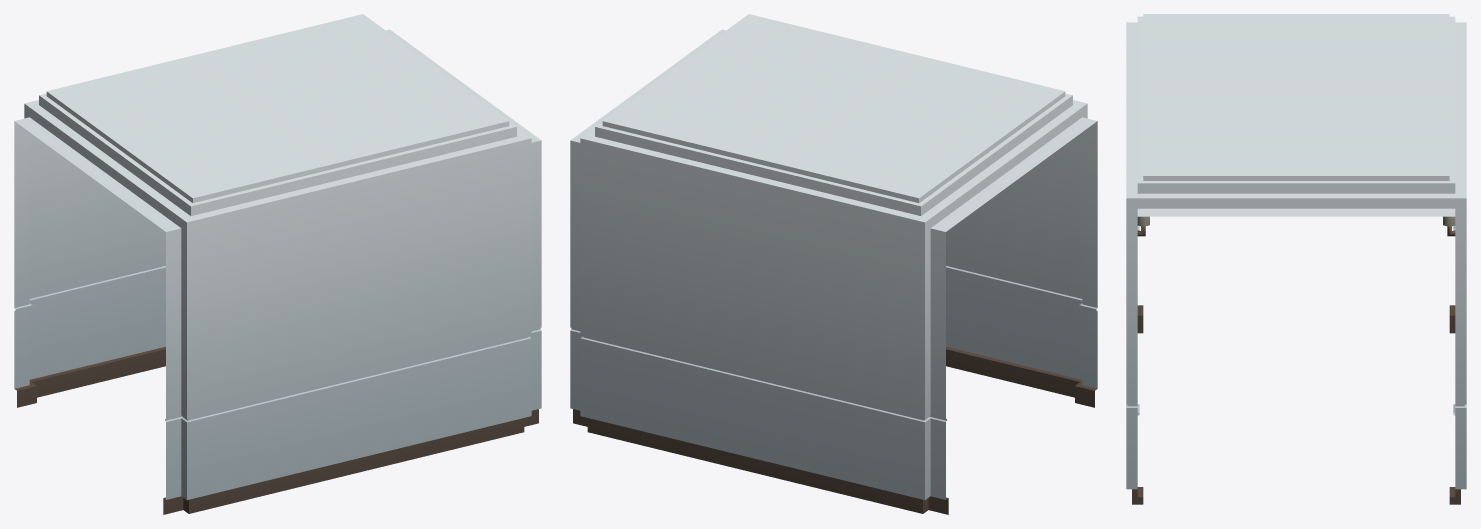
The model's file is 4m_hallway.fbx.
The picture shows the model from 3 angles, left to right: view 1: azimuth 30°, elevation 25°; view 2: azimuth 150°, elevation 25°; view 3: azimuth 270°, elevation 25°; orthographic projection. The views are drawn at different scales.
Visible parts, largest first — view 1: 4m_hallway; view 2: 4m_hallway; view 3: 4m_hallway.
Boxes of the visible parts, x1,y1,x2,y2 form: 4m_hallway: (14, 14, 541, 514); 4m_hallway: (570, 14, 1097, 514); 4m_hallway: (1126, 14, 1466, 504).
Size of the model in its own units: 400 by 315 by 300.
